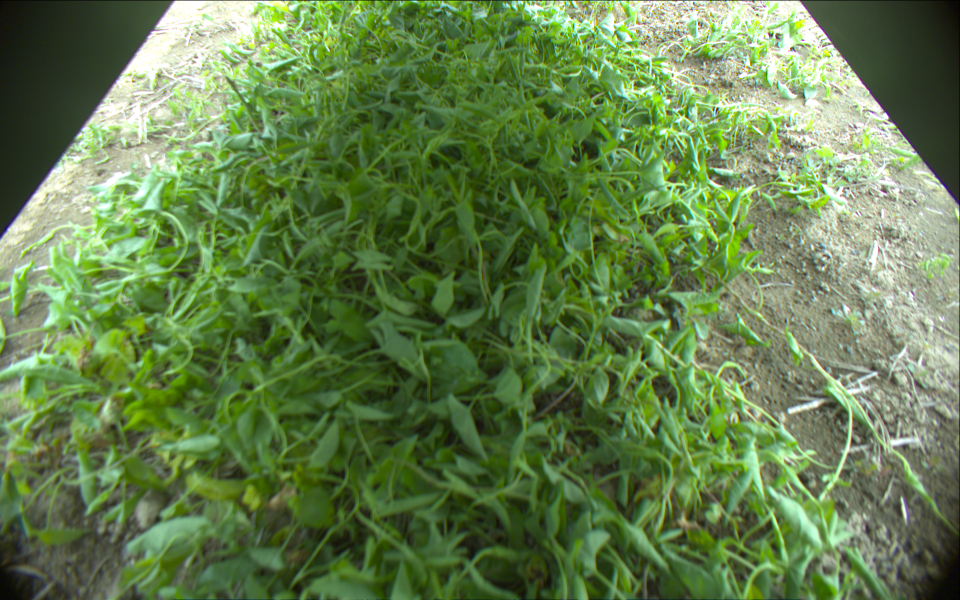aspa: (224, 76, 267, 136)
